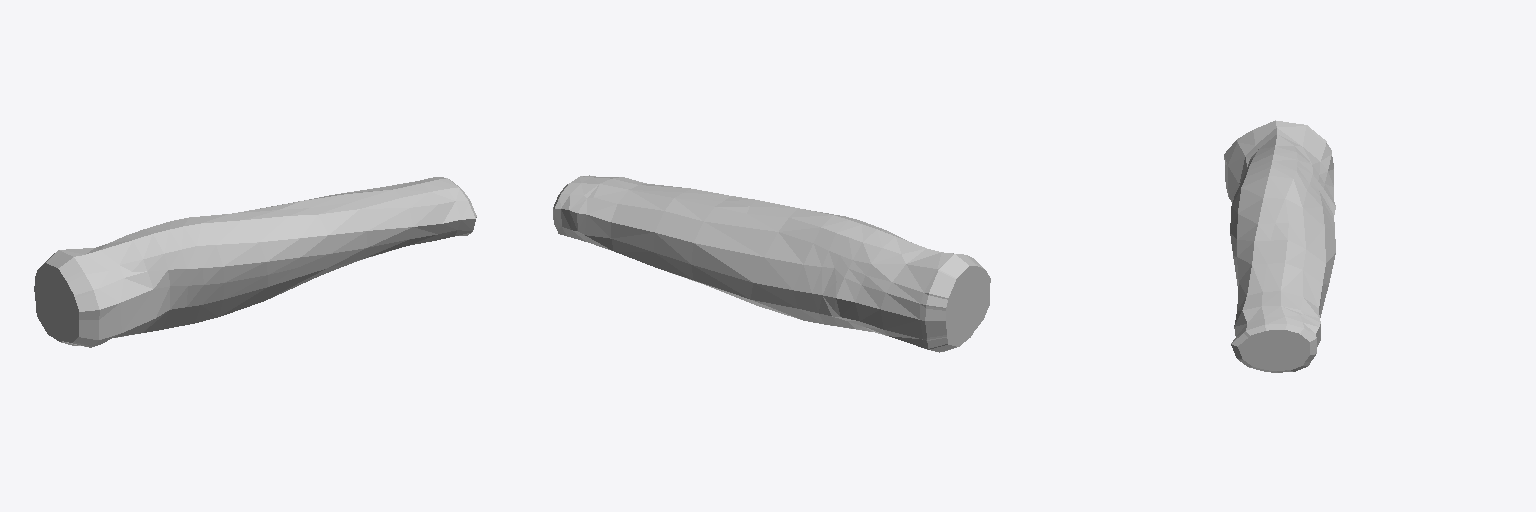
File: rightarm.obj
3 renders of one model, left to right at view 1: azimuth 30°, elevation 25°; view 2: azimuth 150°, elevation 25°; view 3: azimuth 270°, elevation 25°, orthographic.
Visible parts, largest first — view 1: Mesh1 Model; view 2: Mesh1 Model; view 3: Mesh1 Model.
Part boxes in pixels (x1,y1,x2,y2): Mesh1 Model: (34,177,476,347); Mesh1 Model: (553,175,990,352); Mesh1 Model: (1224,120,1335,372).
Bounding box in the file's own units: 11.31 × 2.8 × 2.76.